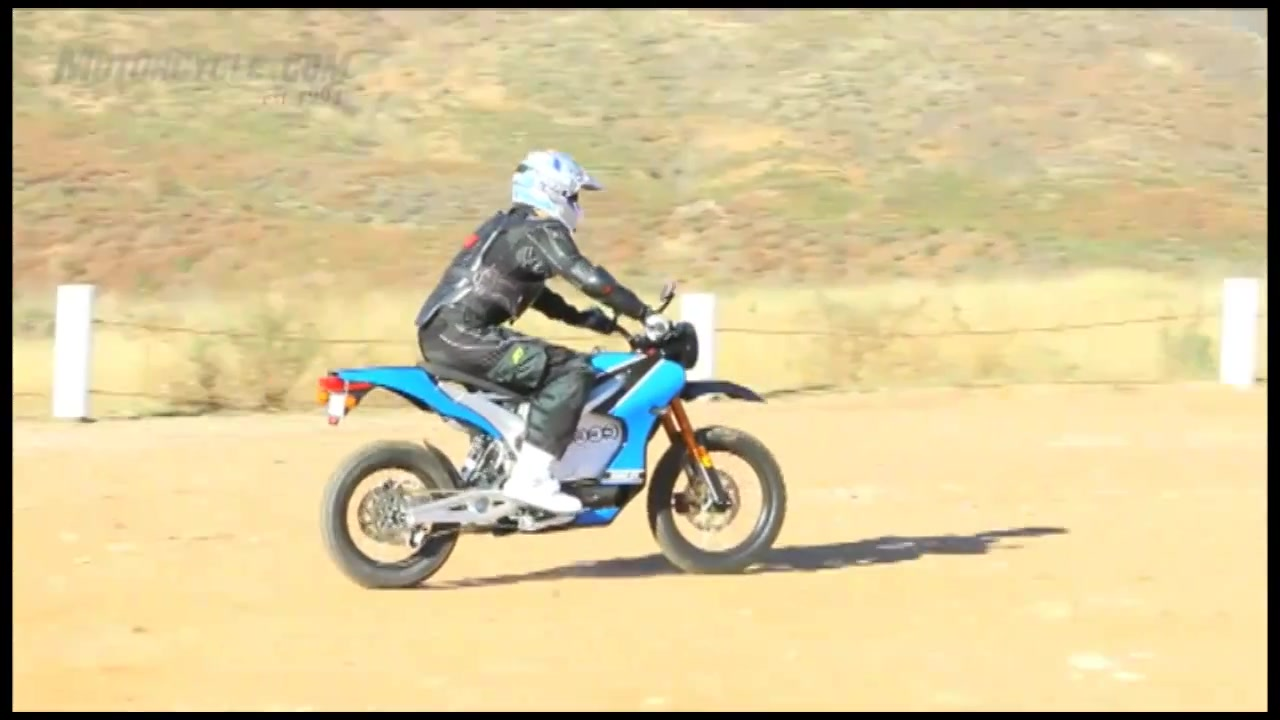motorbike: (314, 287, 789, 590)
